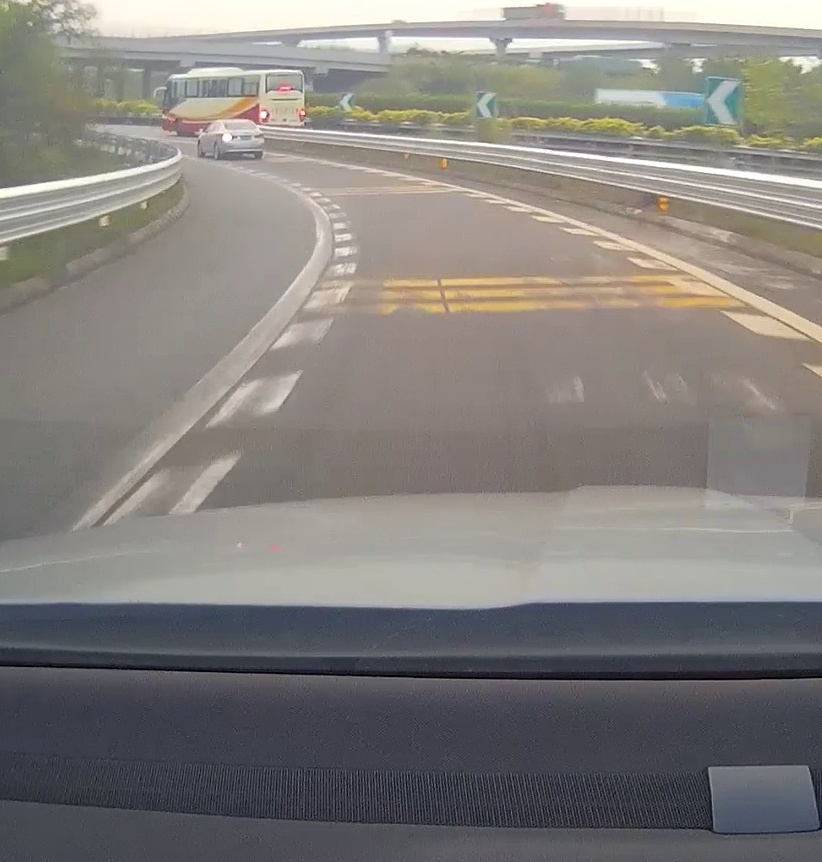L_light: (219, 134, 237, 139)
R_light: (253, 133, 264, 138)
T_light: (235, 120, 243, 121)
day-left: (216, 119, 265, 160)
